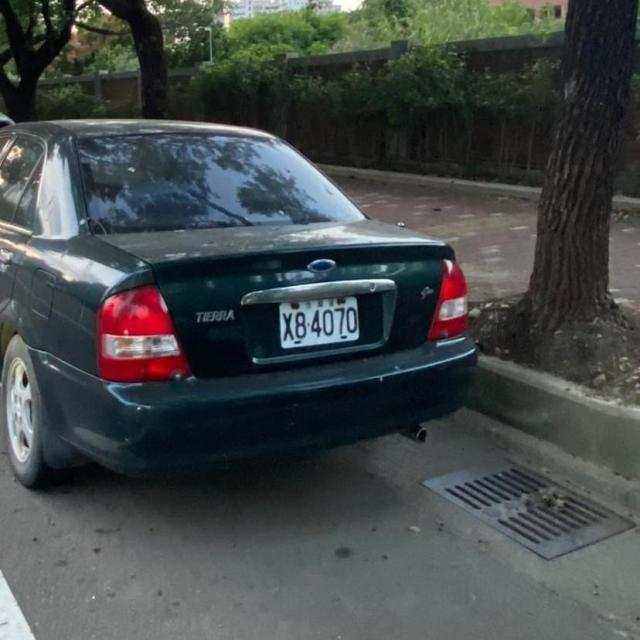W: (270, 288, 368, 351)
